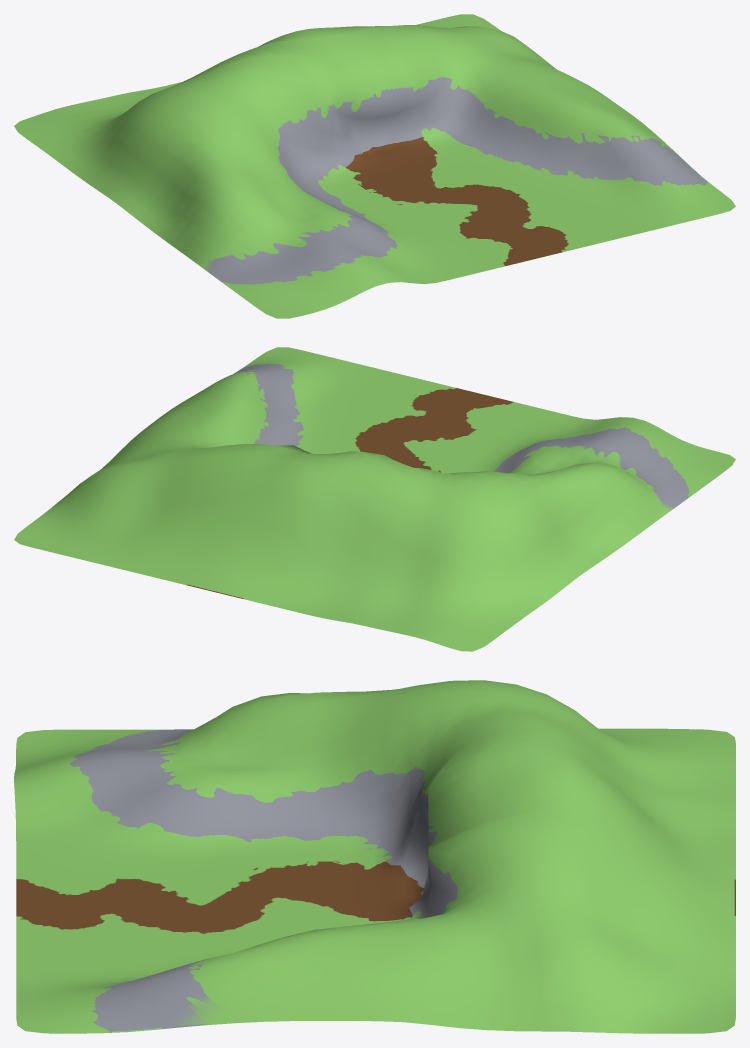
File: terrain.glb
3 views of the same model, one above another, from view 1: azimuth 30°, elevation 25°; view 2: azimuth 150°, elevation 25°; view 3: azimuth 270°, elevation 25° (orthographic). The views are drawn at different scales.
Visible parts, largest first — view 1: Terrain -col; view 2: Terrain -col; view 3: Terrain -col.
Boxes of the visible parts, bbox=[...] form: Terrain -col: bbox=[14, 14, 735, 318]; Terrain -col: bbox=[14, 347, 735, 651]; Terrain -col: bbox=[14, 680, 735, 1033].
Bounding box in the file's own units: 59.8 × 10.78 × 59.78.
1 material, 1 textured.
